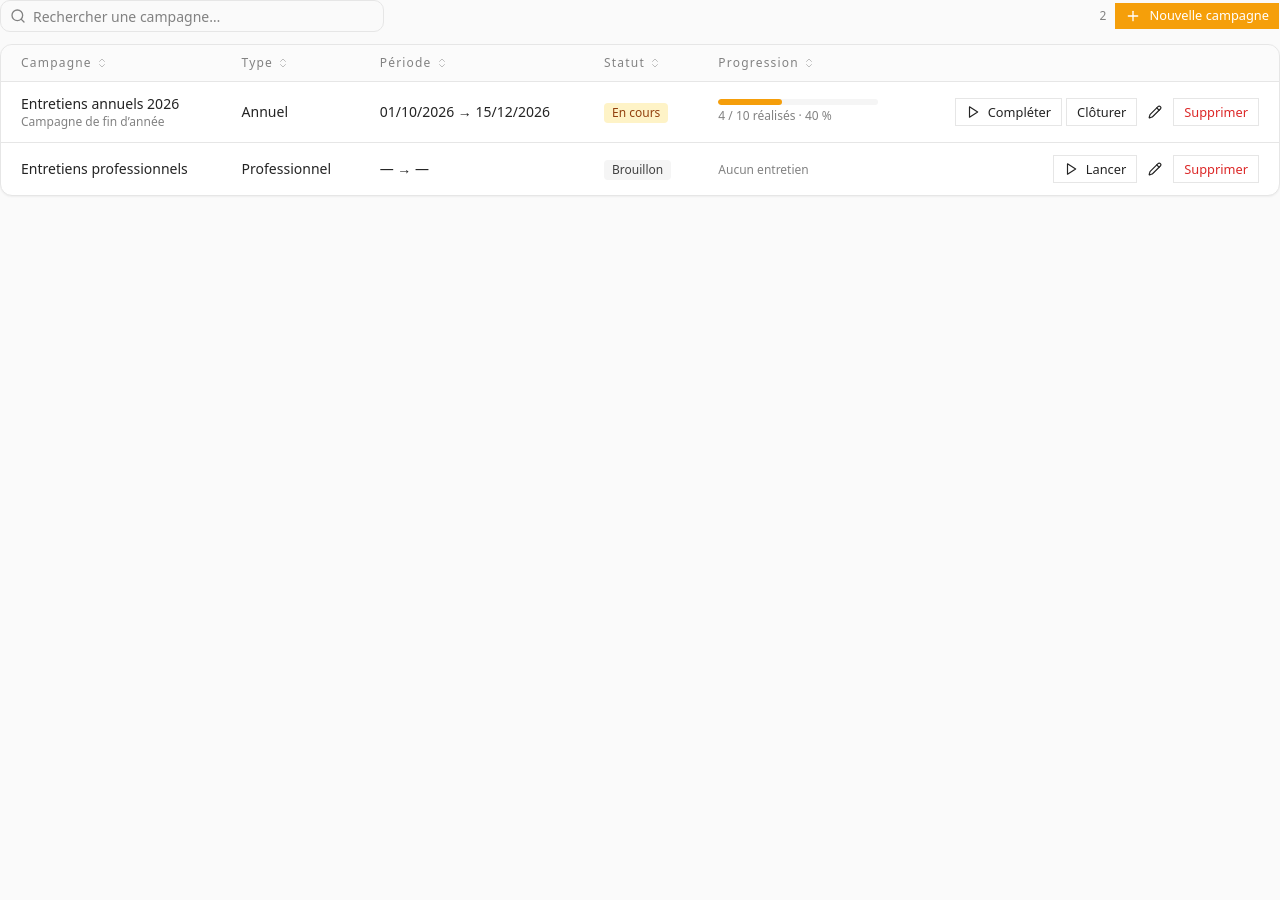
Test: CampagnesSection › verrouille le type d’une campagne qui a déjà des entretiens
What coordinates should you click on to do the following:
click the button named "Modifier Entretiens annuels 2026"
I would click on:
 (1155, 112)
Its box is [1141,98,1169,126].
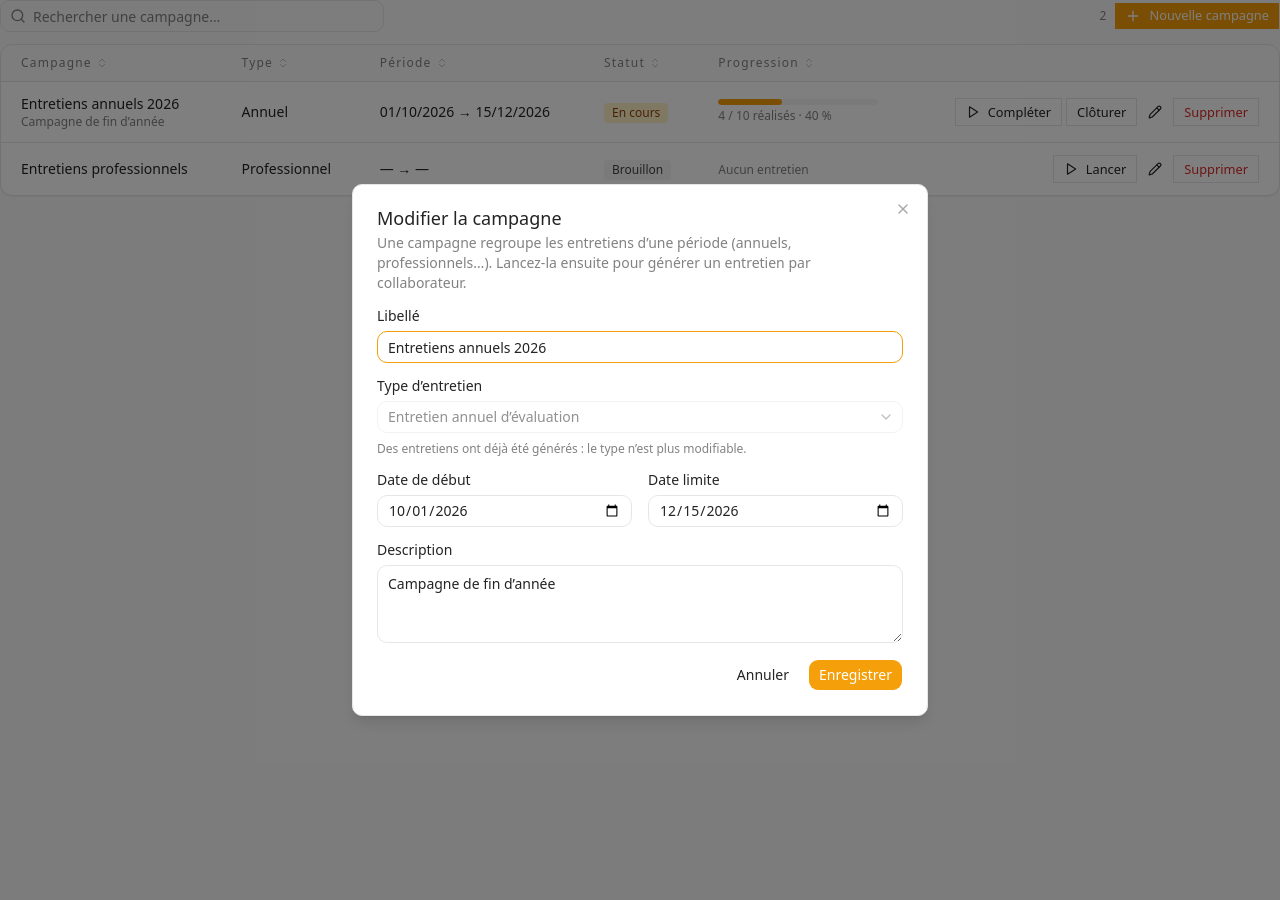
Expected: the text "le type n’est plus modifiable" is shown, [377,440,747,457]
Expected: the field labelled "Libellé" holds "Entretiens annuels 2026", [377,331,903,363]
